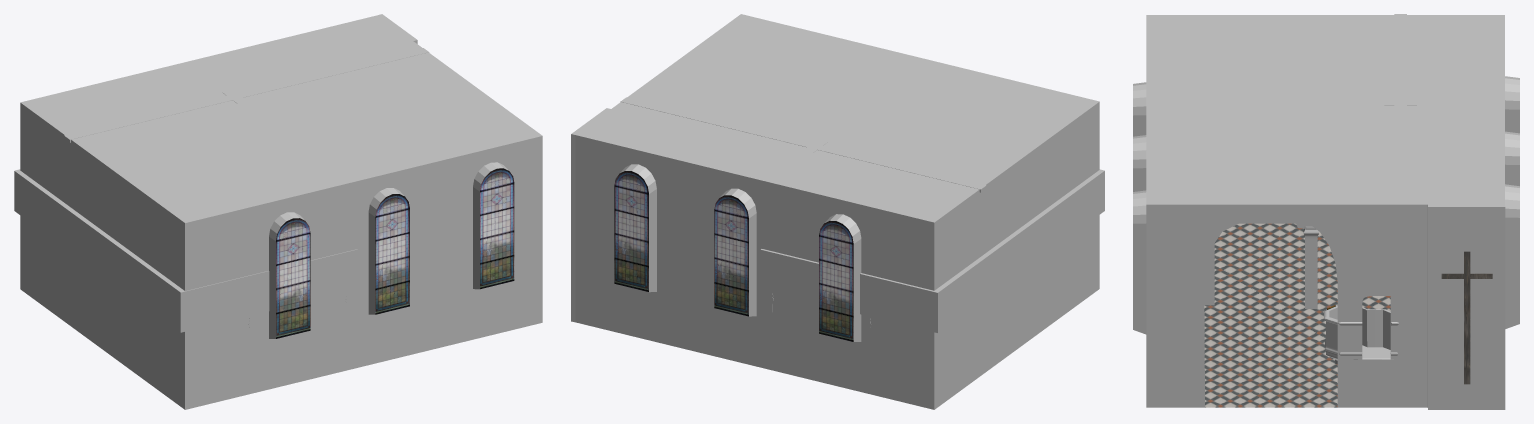
The model's file is CommunityRoom.fbx.
3 renders of one model, left to right at view 1: azimuth 30°, elevation 25°; view 2: azimuth 150°, elevation 25°; view 3: azimuth 270°, elevation 25°, orthographic. The views are drawn at different scales.
Parts seen in each view (by area): view 1: CommunityRoomWalls, GalleryDecoy, CommunityRoomWindowL1, CommunityRoomWindowL3, CommunityRoomWindowL2, TopBeam; view 2: CommunityRoomWalls, GalleryDecoy, CommunityRoomWindowR2, CommunityRoomWindowR3, CommunityRoomWindowR1, TopBeam; view 3: CommunityRoomWalls, CommunityRoomFloor, TopBeam, Empore, Cross, Pillar.001, Pillar.004.
Boxes of the visible parts, left/top/right/bottom form: CommunityRoomWalls: left=20, top=14, right=542, bottom=409; GalleryDecoy: left=14, top=169, right=358, bottom=332; CommunityRoomWindowL1: left=480, top=168, right=514, bottom=289; CommunityRoomWindowL3: left=276, top=218, right=310, bottom=338; CommunityRoomWindowL2: left=375, top=194, right=409, bottom=314; TopBeam: left=64, top=48, right=429, bottom=142; CommunityRoomWalls: left=571, top=14, right=1099, bottom=409; GalleryDecoy: left=760, top=169, right=1104, bottom=332; CommunityRoomWindowR2: left=714, top=195, right=748, bottom=316; CommunityRoomWindowR3: left=819, top=220, right=853, bottom=341; CommunityRoomWindowR1: left=614, top=171, right=648, bottom=291; TopBeam: left=620, top=97, right=986, bottom=192; CommunityRoomWalls: left=1133, top=15, right=1519, bottom=409; CommunityRoomFloor: left=1204, top=223, right=1390, bottom=407; TopBeam: left=1394, top=14, right=1406, bottom=207; Empore: left=1324, top=305, right=1398, bottom=364; Cross: left=1441, top=251, right=1492, bottom=384; Pillar.001: left=1296, top=223, right=1318, bottom=308; Pillar.004: left=1204, top=243, right=1214, bottom=305.
Bounding box in the file's own units: 1243 × 607 × 1043.
